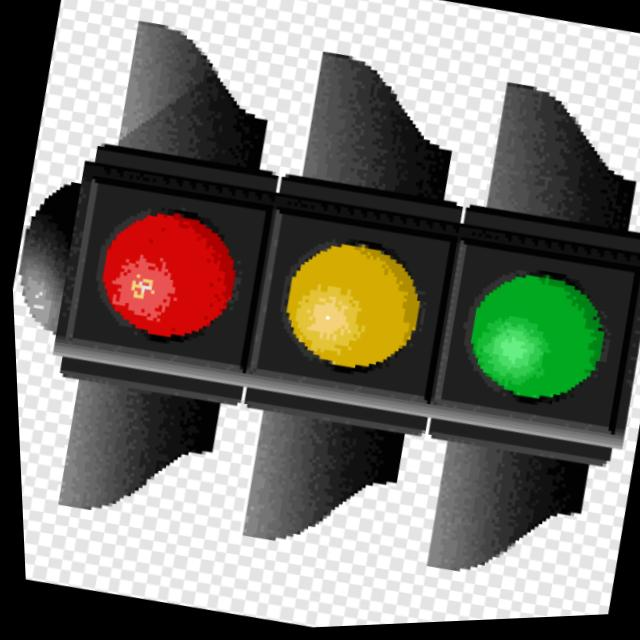green_light: (394, 176, 640, 510)
red_light: (41, 134, 280, 398)
yellow_light: (223, 167, 478, 460)
